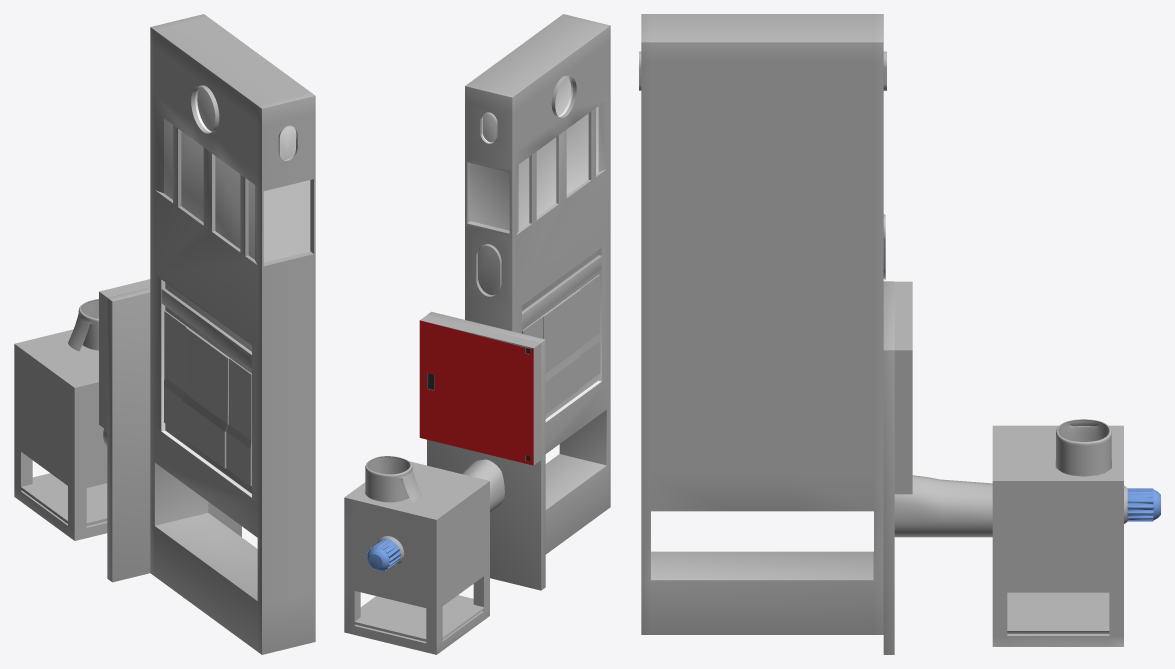
File: Reserve_Box.glb
The picture shows the model from 3 angles, left to right: view 1: azimuth 30°, elevation 25°; view 2: azimuth 150°, elevation 25°; view 3: azimuth 270°, elevation 25°; orthographic projection. The views are drawn at different scales.
Visible parts, largest first — view 1: 末道棉箱主体, 末道棉箱出棉主体, 侧板, 物体, 立方体.004, 横梁, 支撑物, 末道棉箱出棉主体.001, 窗口1; view 2: 末道棉箱主体, 末道棉箱出棉主体, 支撑物, 侧板, 立方体.004, 物体, 末道棉箱出棉主体.001, 横梁, 连接器, 立方体.009, 末道棉箱出棉旋钮; view 3: 末道棉箱主体, 末道棉箱出棉主体, 连接器, 侧板, 支撑物, 末道棉箱出棉主体.001, 末道棉箱出棉旋钮.
Boxes of the visible parts, x1,y1,x2,y2 form: 末道棉箱主体: (150, 14, 315, 654); 末道棉箱出棉主体: (14, 329, 107, 540); 侧板: (107, 287, 241, 582); 物体: (164, 311, 251, 485); 立方体.004: (182, 327, 228, 468); 横梁: (161, 288, 251, 369); 支撑物: (99, 279, 150, 430); 末道棉箱出棉主体.001: (68, 299, 98, 351); 窗口1: (279, 126, 296, 159); 末道棉箱主体: (465, 14, 610, 554); 末道棉箱出棉主体: (344, 461, 489, 654); 支撑物: (419, 315, 540, 465); 侧板: (427, 311, 545, 590); 立方体.004: (543, 289, 581, 413); 物体: (522, 274, 600, 387); 末道棉箱出棉主体.001: (365, 456, 421, 502); 横梁: (522, 255, 601, 326); 连接器: (462, 459, 504, 512); 立方体.009: (478, 245, 499, 294); 末道棉箱出棉旋钮: (367, 539, 400, 571); 末道棉箱主体: (639, 14, 886, 634); 末道棉箱出棉主体: (992, 425, 1127, 646); 连接器: (894, 475, 992, 537); 侧板: (883, 281, 894, 654); 支撑物: (894, 281, 912, 494); 末道棉箱出棉主体.001: (1056, 419, 1111, 476); 末道棉箱出棉旋钮: (1127, 488, 1160, 521).
Size of the model in its own units: 8.3 by 33.41 by 26.67.
